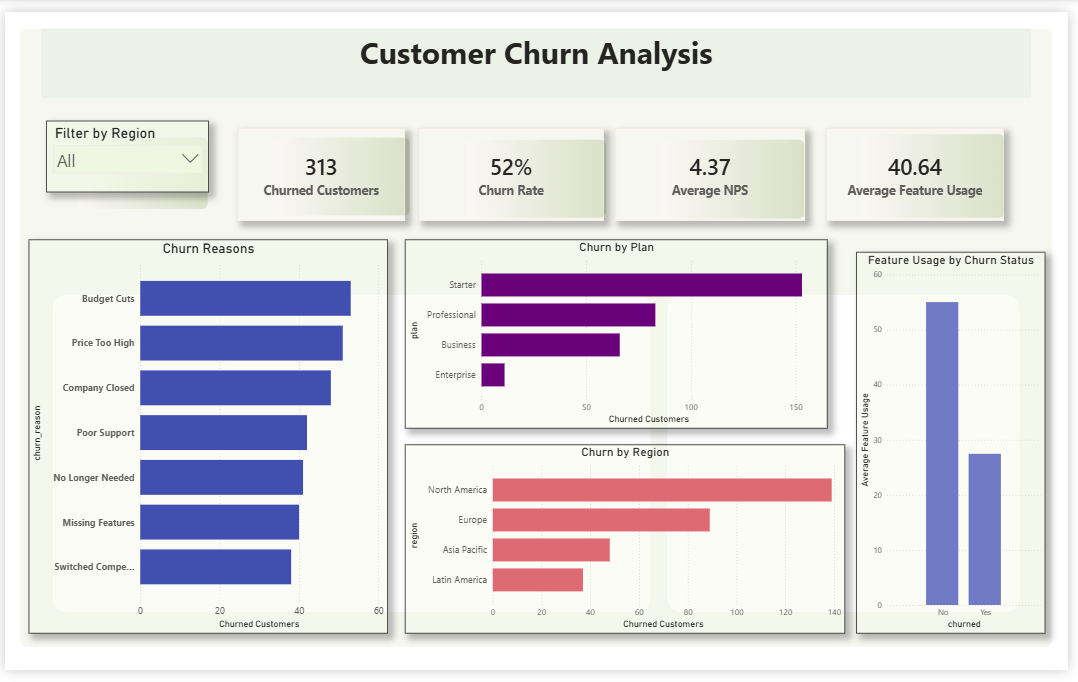

Layout of this report page (visuals, bound fields, positions):
{"tool":"powerbi","page":{"name":"Page 3","canvas":[1700,1053],"ordinal":2},"visuals":[{"type":"cardVisual","fields":{"Data":["Subscriptions.Churned Customers"]},"box":[372,186,268,148],"z":0},{"type":"cardVisual","fields":{"Data":["Subscriptions.Churn Rate"]},"box":[662,186,296,148],"z":1000},{"type":"cardVisual","fields":{"Data":["Subscriptions.Average NPS"]},"box":[976,186,304,148],"z":2000},{"type":"cardVisual","fields":{"Data":["Subscriptions.Average Feature Usage"]},"box":[1314,186,284,148],"z":3000},{"type":"clusteredBarChart","title":"Churn by Plan","fields":{"Category":["Subscriptions.plan"],"Y":["Subscriptions.Churned Customers"]},"box":[640,364,676,302],"z":4000},{"type":"barChart","title":"Churn  by Region","fields":{"Y":["Subscriptions.Churned Customers"],"Category":["Subscriptions.region"]},"box":[640,692,704,302],"z":5000},{"type":"clusteredBarChart","title":"Churn  Reasons","fields":{"Category":["Subscriptions.churn_reason"],"Y":["Subscriptions.Churned Customers"]},"box":[38,364,574,630],"z":6000},{"type":"clusteredColumnChart","title":"Feature Usage by Churn Status","fields":{"Category":["Subscriptions.churned"],"Y":["Subscriptions.Average Feature Usage"]},"box":[1362,384,302,610],"z":7000},{"type":"slicer","fields":{"Values":["Subscriptions.region","Subscriptions.plan"]},"box":[66,174,260,114],"z":8000},{"type":"textbox","box":[58,26,1584,112],"z":9000}]}

Visuals, with their boxes in screenshot pixels (x1, y1, x2, y2), scaled from the page's 1700x1053 canvas onto the 1078x682 screenshot:
cardVisual - Subscriptions.Churned Customers: <region>236, 120, 406, 216</region>
cardVisual - Subscriptions.Churn Rate: <region>420, 120, 607, 216</region>
cardVisual - Subscriptions.Average NPS: <region>619, 120, 812, 216</region>
cardVisual - Subscriptions.Average Feature Usage: <region>833, 120, 1013, 216</region>
"Churn by Plan" clusteredBarChart: <region>406, 236, 834, 431</region>
"Churn  by Region" barChart: <region>406, 448, 852, 644</region>
"Churn  Reasons" clusteredBarChart: <region>24, 236, 388, 644</region>
"Feature Usage by Churn Status" clusteredColumnChart: <region>864, 249, 1055, 644</region>
slicer - Subscriptions.region x Subscriptions.plan: <region>42, 113, 207, 187</region>
textbox: <region>37, 17, 1041, 89</region>
